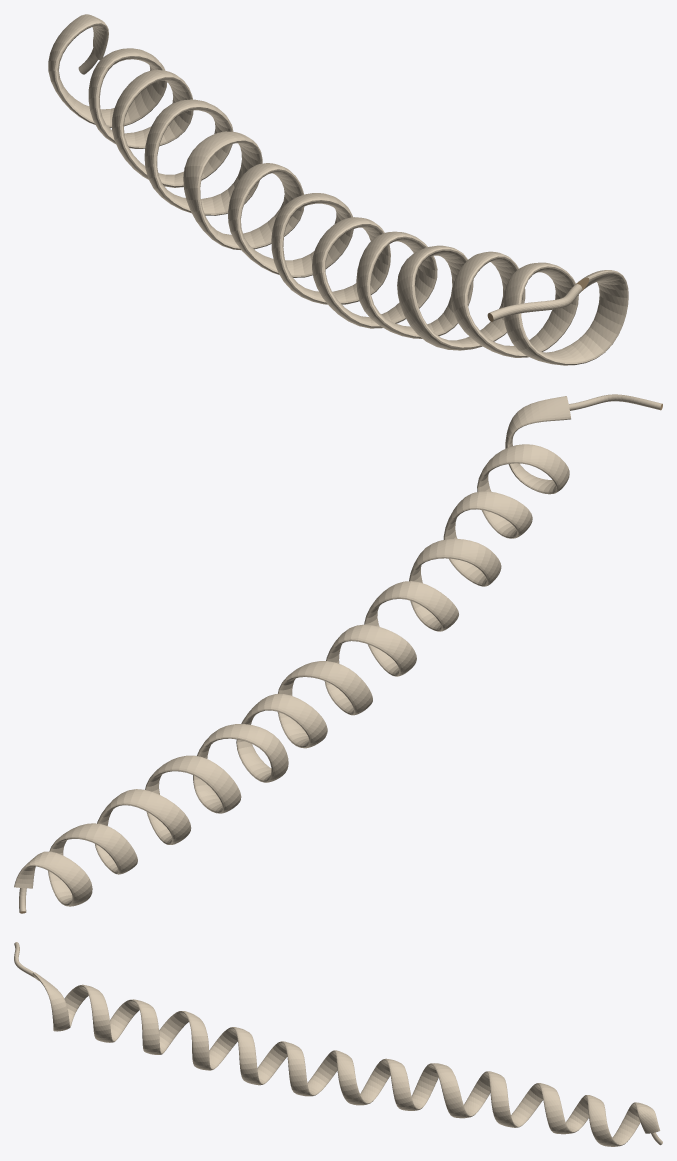
The model's file is HelixfCoil.dae.
The picture shows the model from 3 angles, top to bottom: view 1: azimuth 30°, elevation 25°; view 2: azimuth 150°, elevation 25°; view 3: azimuth 270°, elevation 25°; orthographic projection. The views are drawn at different scales.
Visible parts, largest first — view 1: Shape_IndexedTriangleStripSet_048; view 2: Shape_IndexedTriangleStripSet_048; view 3: Shape_IndexedTriangleStripSet_048.
Boxes of the visible parts, left/top/right/bottom form: Shape_IndexedTriangleStripSet_048: left=48, top=14, right=628, bottom=365; Shape_IndexedTriangleStripSet_048: left=14, top=394, right=662, bottom=913; Shape_IndexedTriangleStripSet_048: left=14, top=942, right=662, bottom=1146.
Size of the model in its own units: 15.51 by 68 by 17.48.
